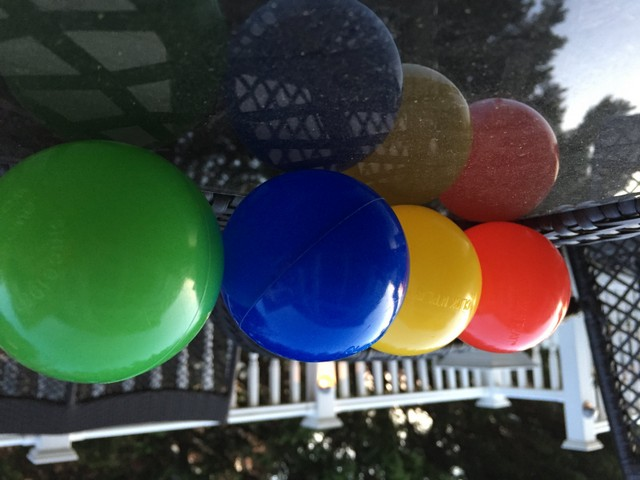Ball: (451, 222, 569, 352)
